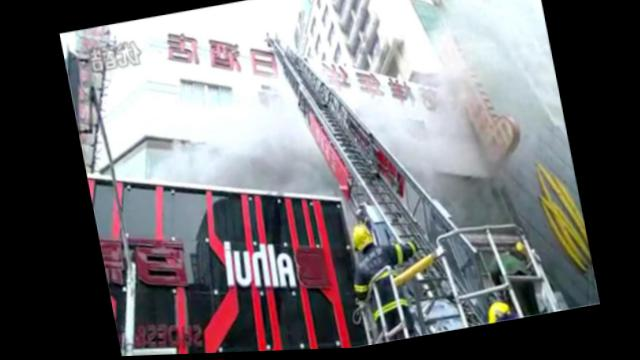smoke: (226, 123, 317, 199)
